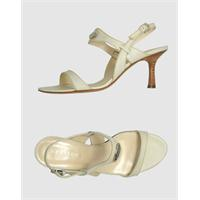shoe: (38, 22, 168, 94), (34, 131, 168, 178)
